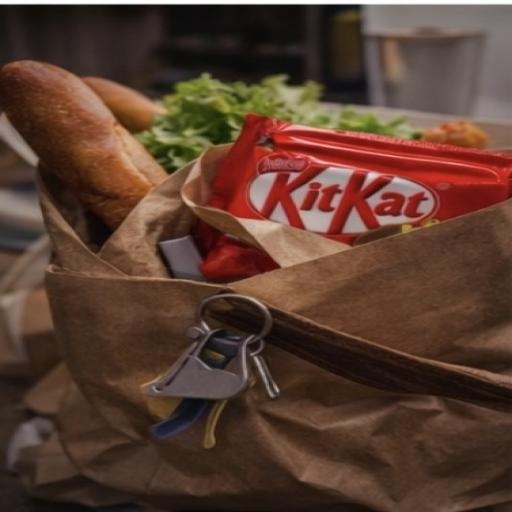kitkat: (170, 82, 512, 314)
